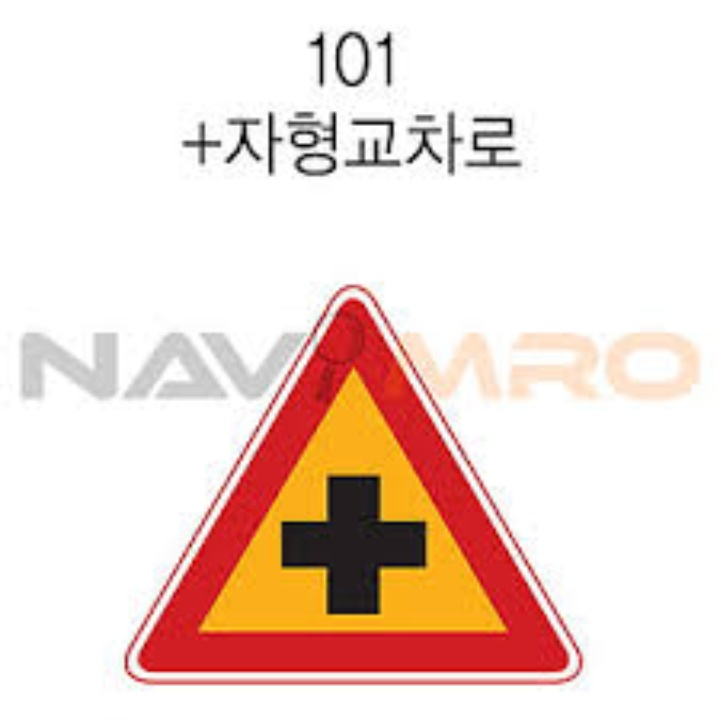inter: (268, 465, 439, 625)
